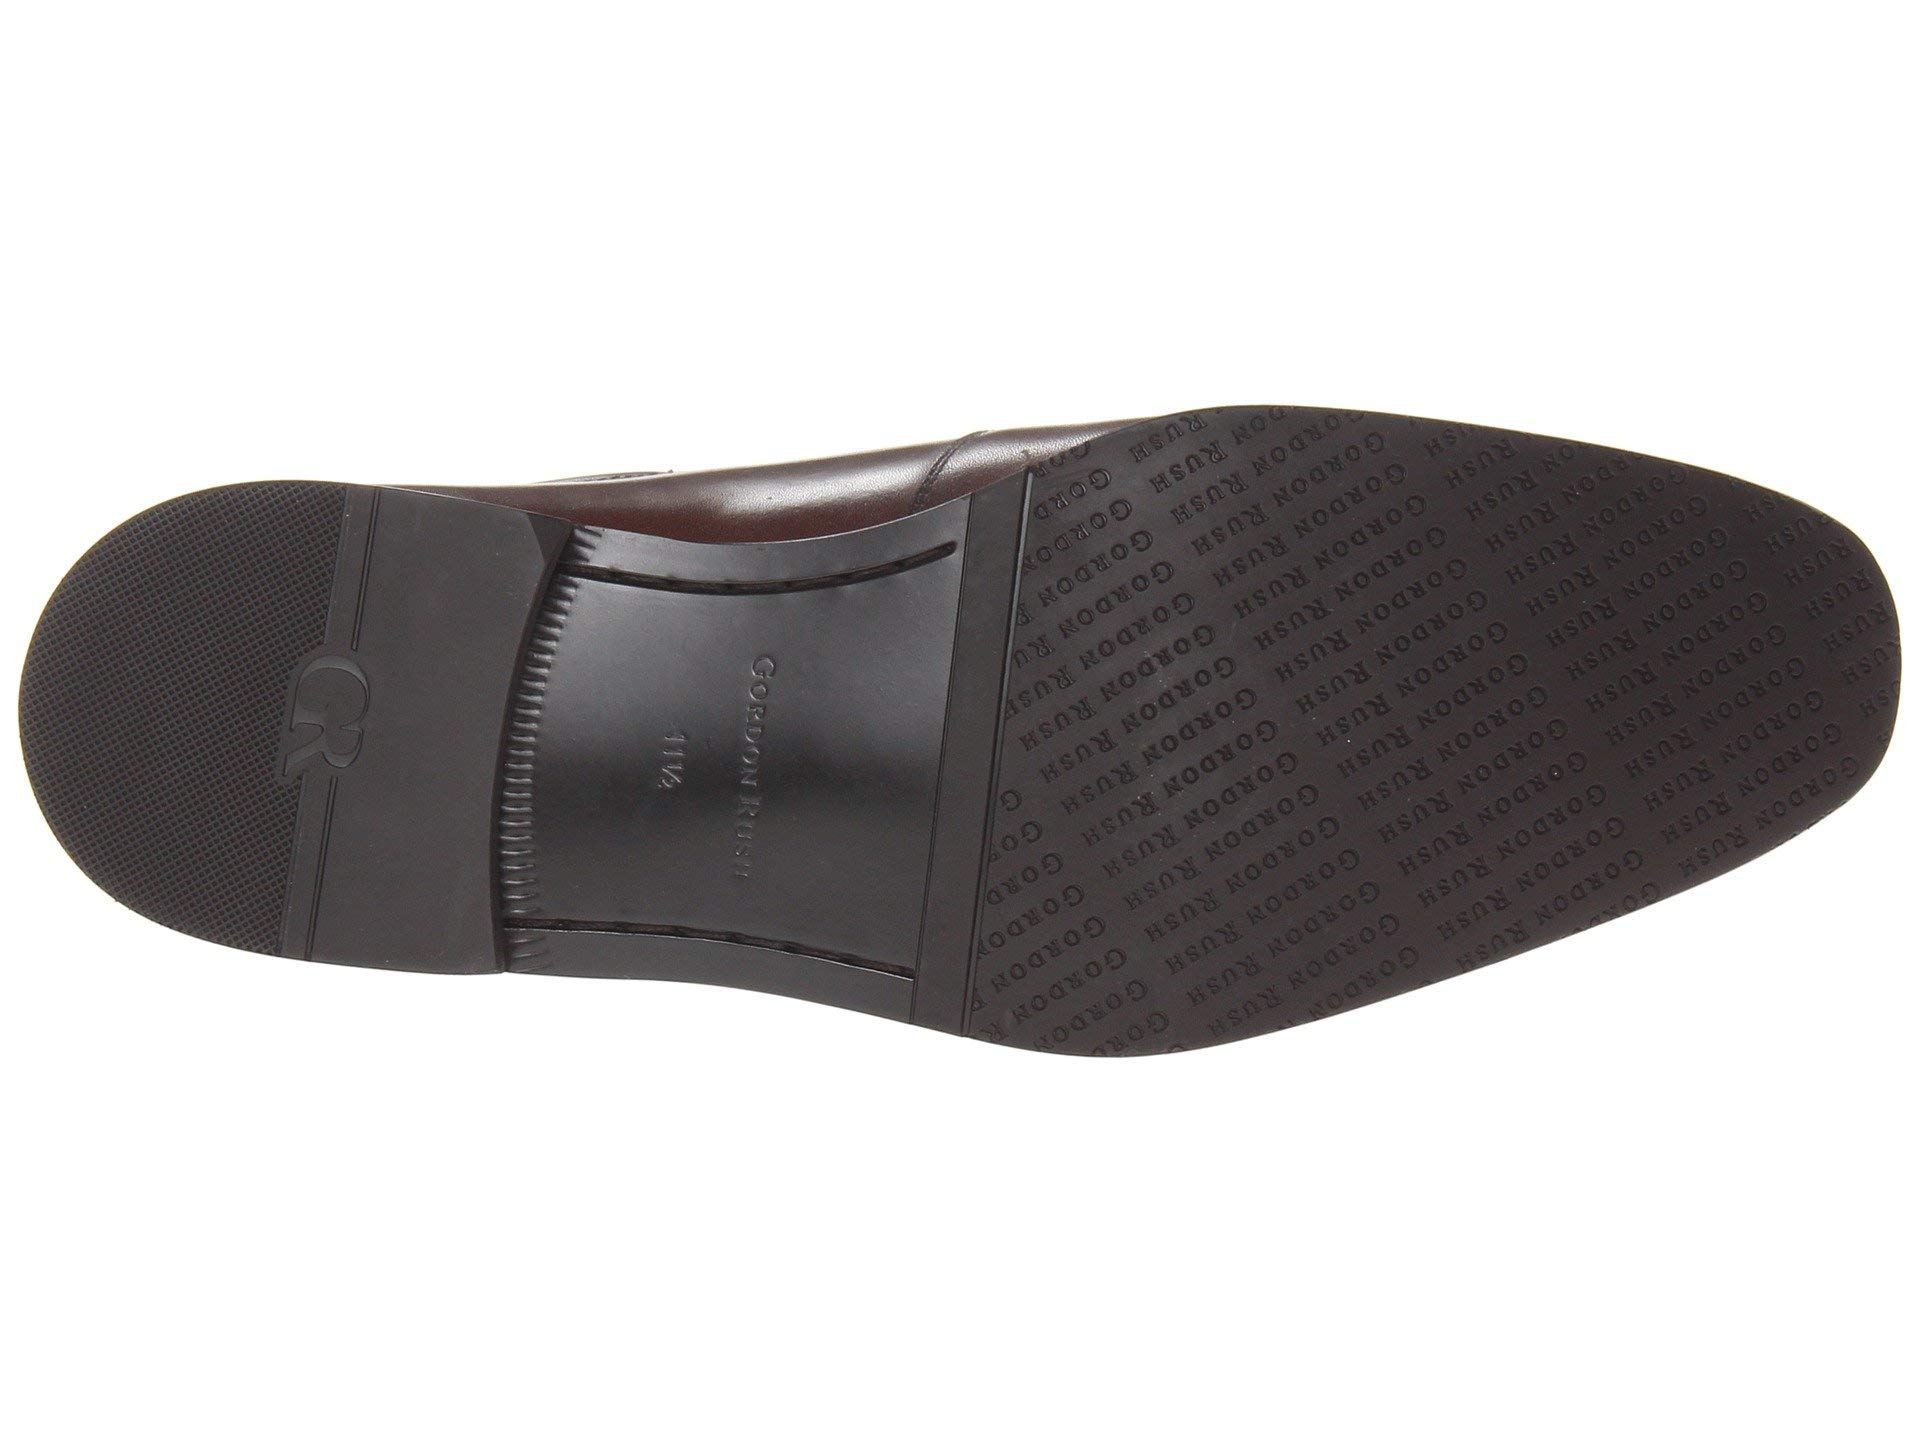line: (194, 610, 484, 849)
quad: (194, 610, 484, 849)
text: (1114, 495, 1485, 902), (194, 610, 484, 849)
